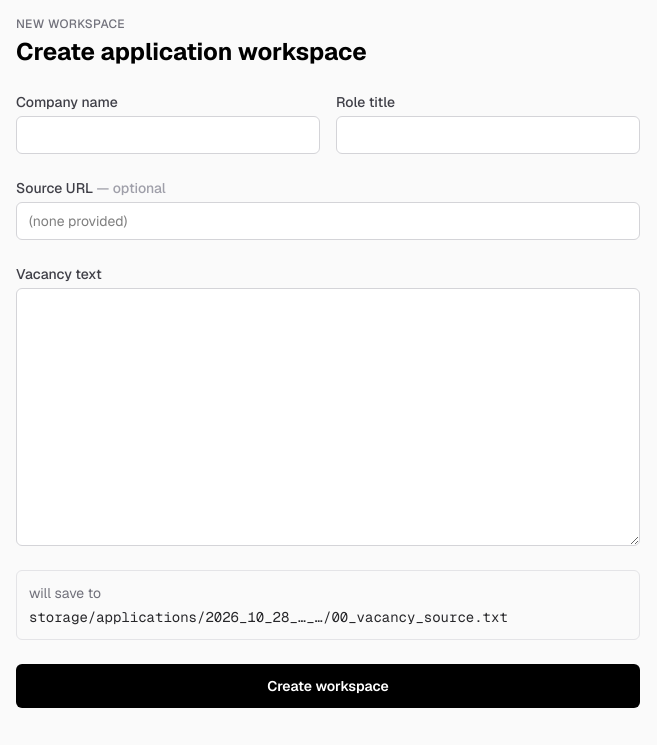
Test: NewWorkspacePage › submits the form and renders the success screen with the API response
Type "Hired" into the field labelled "Company name".
click(168, 135); type("Hired")  # box [16,116,320,154]
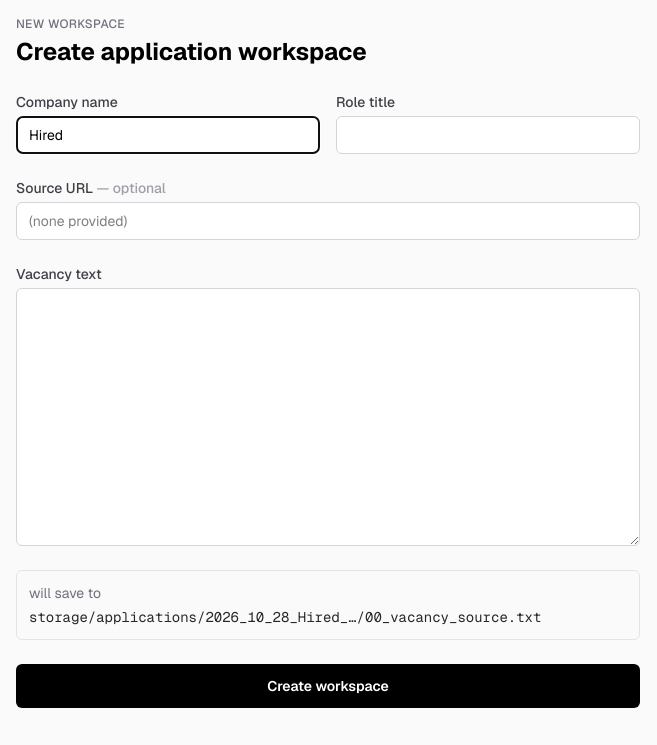
Type "Fullstack Developer" into the field labelled "Role title".
click(488, 135); type("Fullstack Developer")  # box [336,116,640,154]
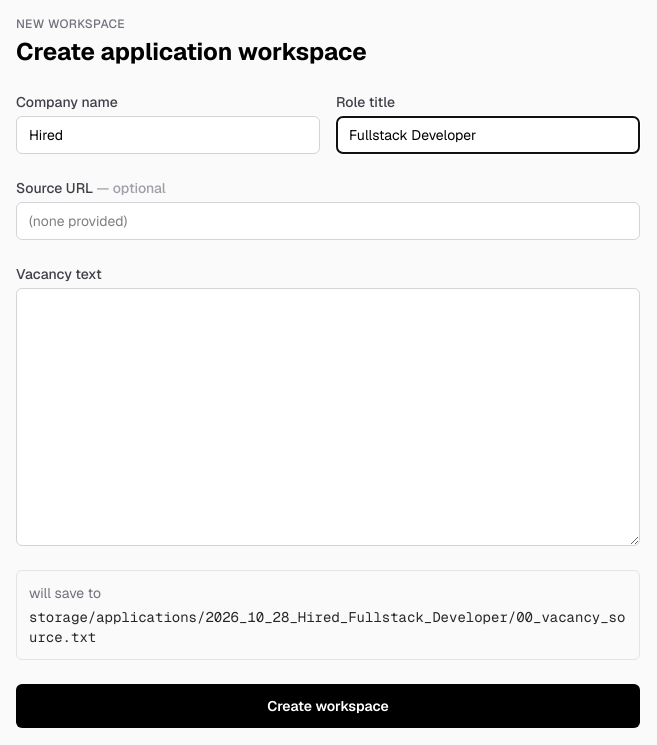
Type "We are hiring..." into the text box labelled "Vacancy text".
click(328, 417); type("We are hiring...")  # box [16,288,640,546]
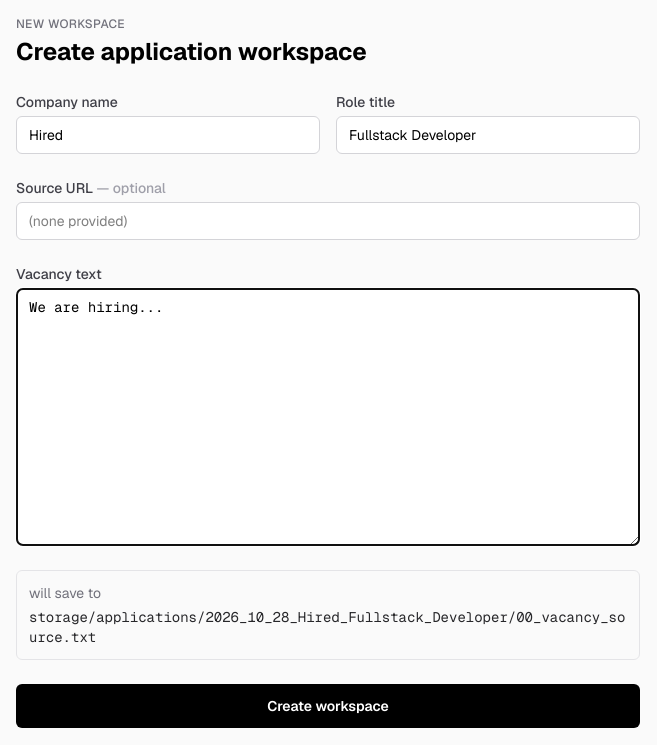
Click the button "Create workspace".
click(328, 706)  # box [16,684,640,728]
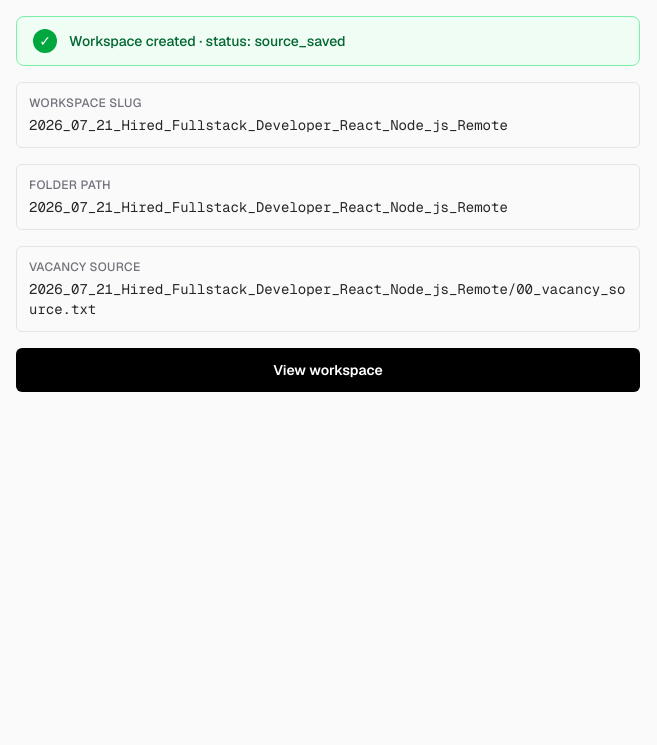
Now the text "Workspace created · status: source_saved" is shown, box [69,31,346,51]
Now the text "2026_07_21_Hired_Fullstack_Developer_React_Node_js_Remote" is shown 2 times, box [29,116,508,134]; [29,198,508,216]
Now the text "2026_07_21_Hired_Fullstack_Developer_React_Node_js_Remote/00_vacancy_source.txt" is shown, box [29,279,627,319]
